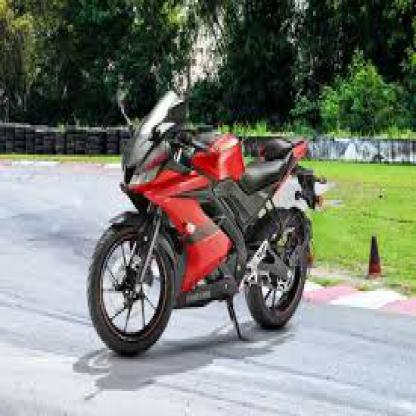Motorcycle: (81, 71, 323, 367)
